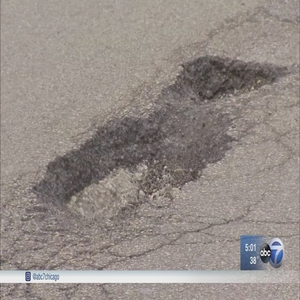pothole: (41, 126, 204, 223), (176, 57, 286, 104)
